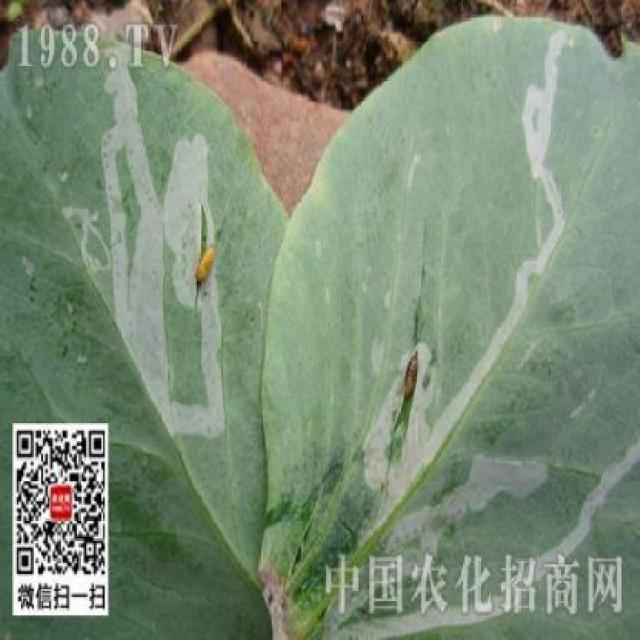whorl-maggot: (188, 229, 222, 303), (402, 342, 428, 402)
